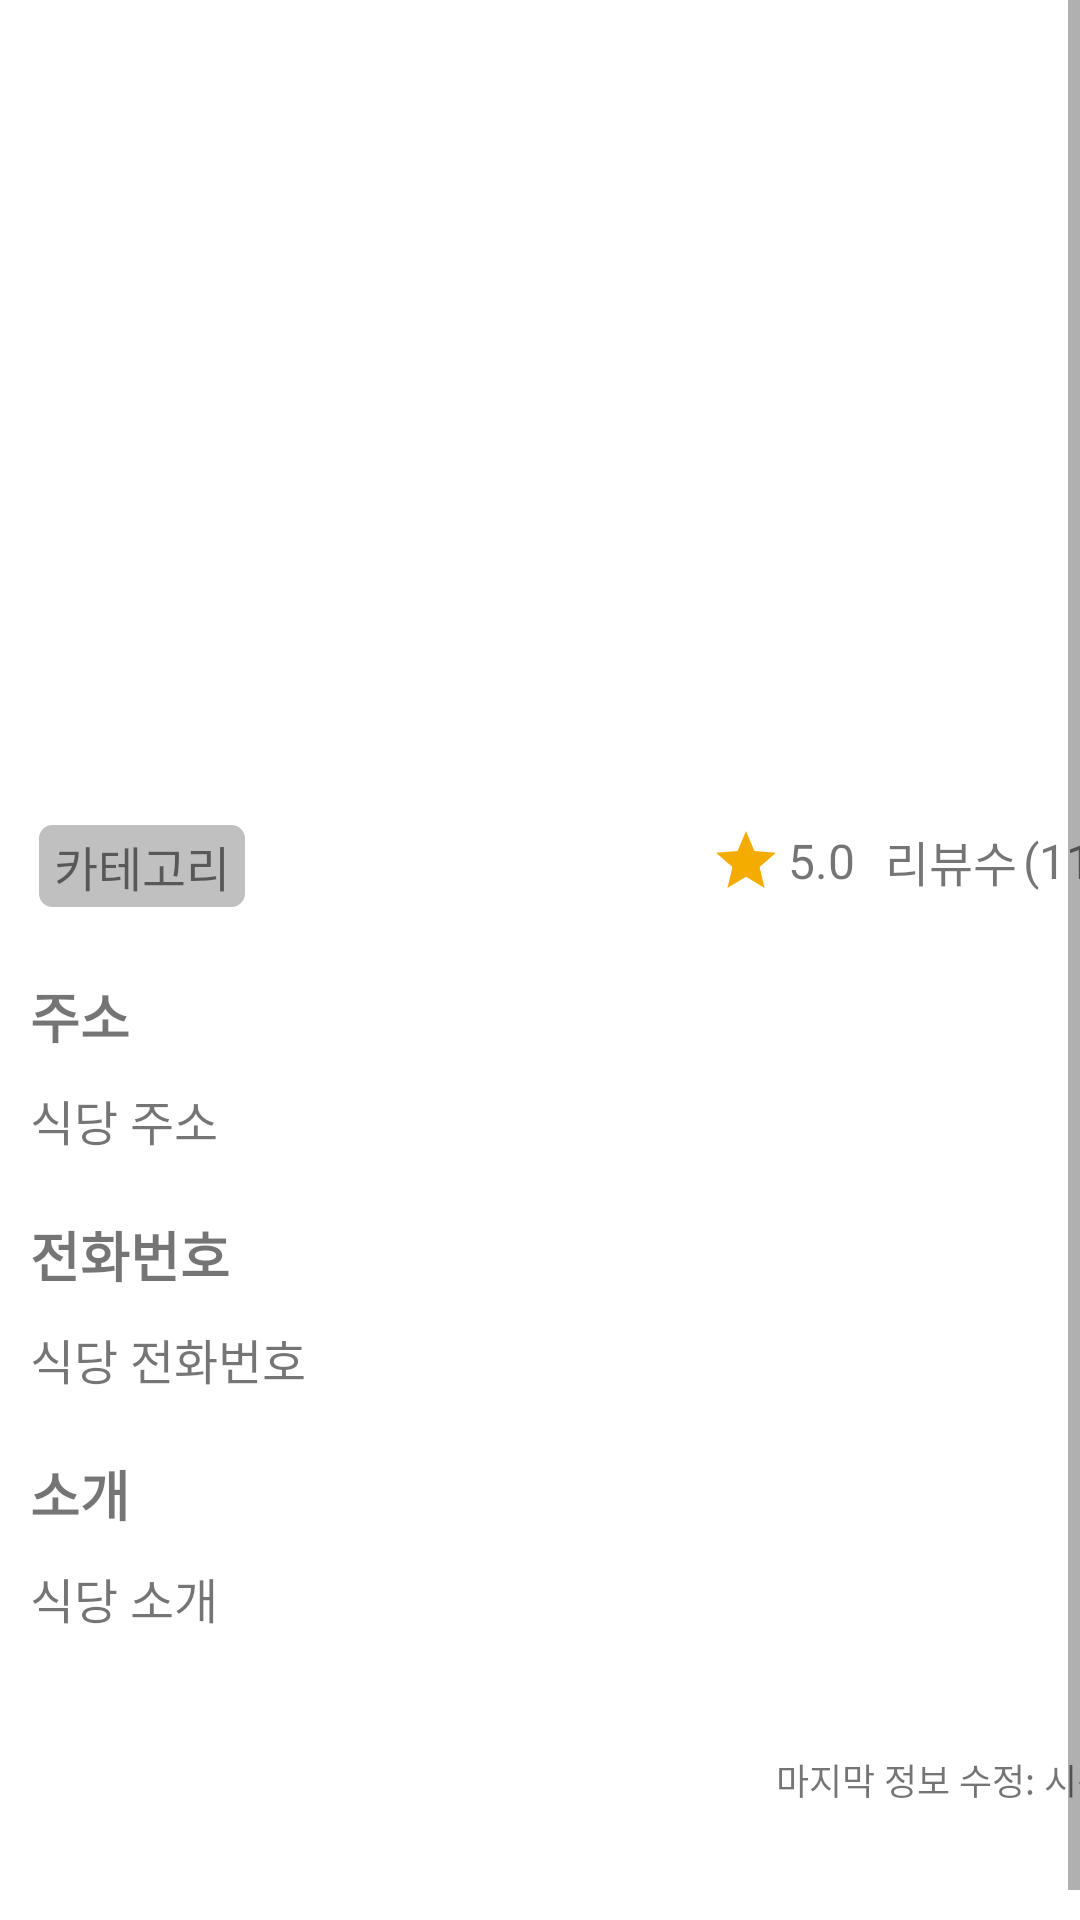

Point at icon controls on the screen. Image size 1080px×1920px, points as (x=x, y=y).
star: (x=746, y=859)
